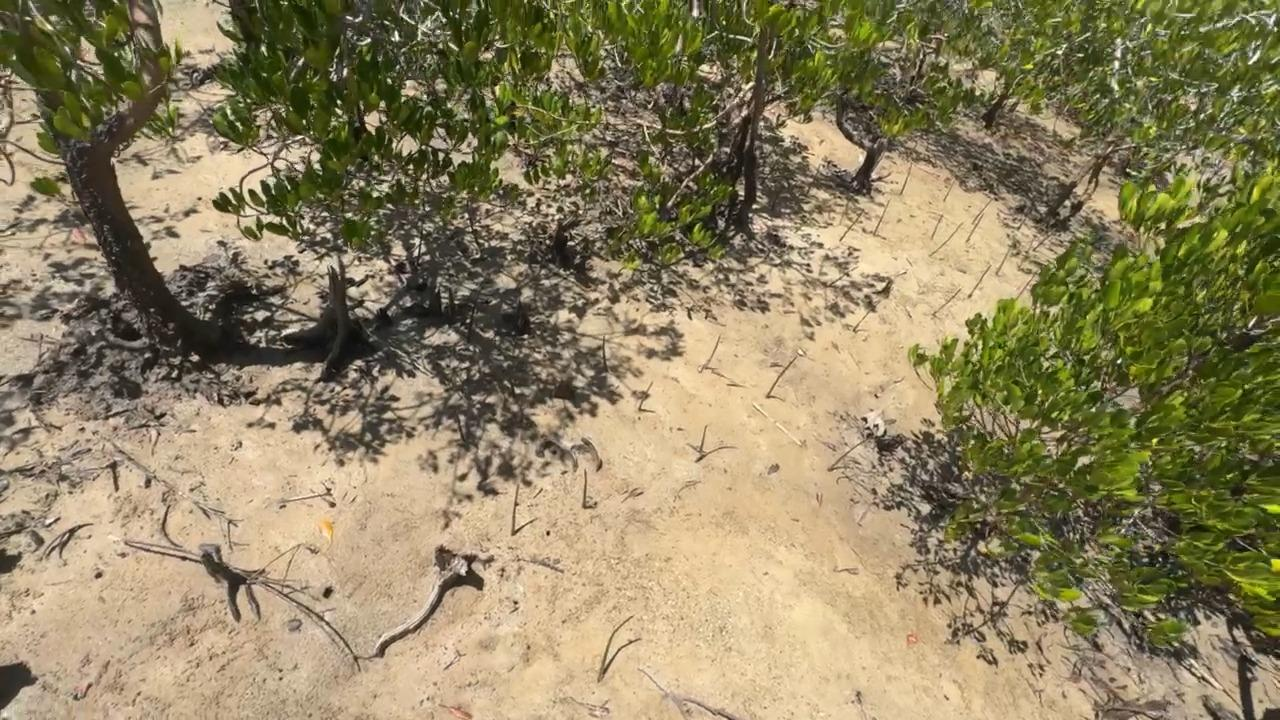Tree: (598, 615, 633, 683), (765, 355, 797, 398), (928, 221, 965, 257), (828, 440, 869, 471), (853, 299, 881, 332), (967, 265, 992, 299), (839, 208, 864, 242), (932, 288, 962, 316), (703, 335, 724, 369), (873, 199, 891, 235), (1015, 271, 1038, 299), (971, 198, 994, 226), (467, 291, 480, 339), (829, 266, 860, 286), (966, 213, 984, 244), (805, 164, 821, 196), (510, 483, 519, 537), (637, 379, 653, 409), (1032, 231, 1054, 251), (996, 247, 1011, 276), (899, 162, 912, 195), (99, 458, 123, 474), (930, 214, 944, 239), (943, 177, 956, 203), (771, 185, 780, 212), (582, 468, 588, 508), (700, 424, 708, 451), (602, 335, 606, 367), (1017, 216, 1026, 230)
